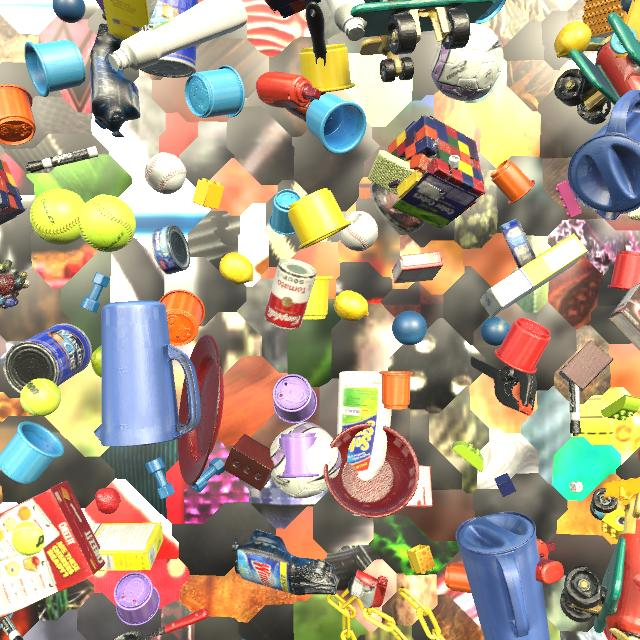ycb_002_master_chef_can: (3, 323, 92, 393), (139, 0, 198, 78)
ycb_003_cracker_box: (0, 481, 106, 619)
ycb_004_sugar_box: (480, 233, 588, 318), (89, 522, 163, 571), (103, 0, 157, 40)
ycb_005_tomato_soup_can: (264, 259, 317, 330)
ycb_007_tuna_fish_can: (151, 225, 190, 275), (500, 217, 536, 269)
ycb_008_pudding_box: (608, 283, 640, 351)
ycb_009_gelatin_box: (392, 251, 443, 284), (405, 466, 433, 508)
ycb_012_strawberry: (95, 487, 121, 514)
ycb_013_apple: (638, 448, 640, 461)
ycb_014_lemon: (554, 21, 591, 58), (219, 252, 254, 285), (334, 290, 369, 321)
ycb_016_pear: (91, 346, 101, 377)
